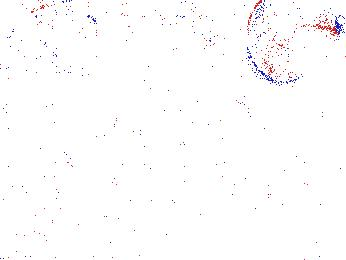moon jellyfish: (246, 1, 339, 83), (89, 14, 153, 96), (128, 2, 220, 47), (9, 4, 101, 47), (1, 1, 37, 93)
